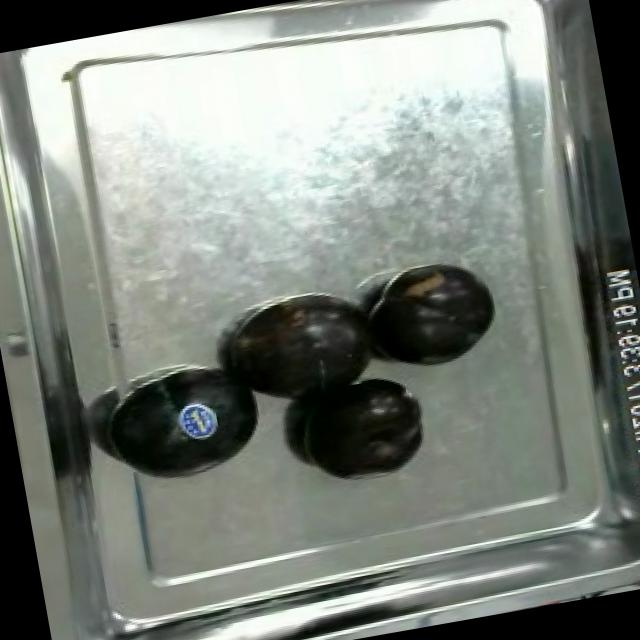Fruit: (100, 348, 282, 496), (215, 284, 384, 421), (352, 251, 510, 380), (286, 364, 434, 489)
